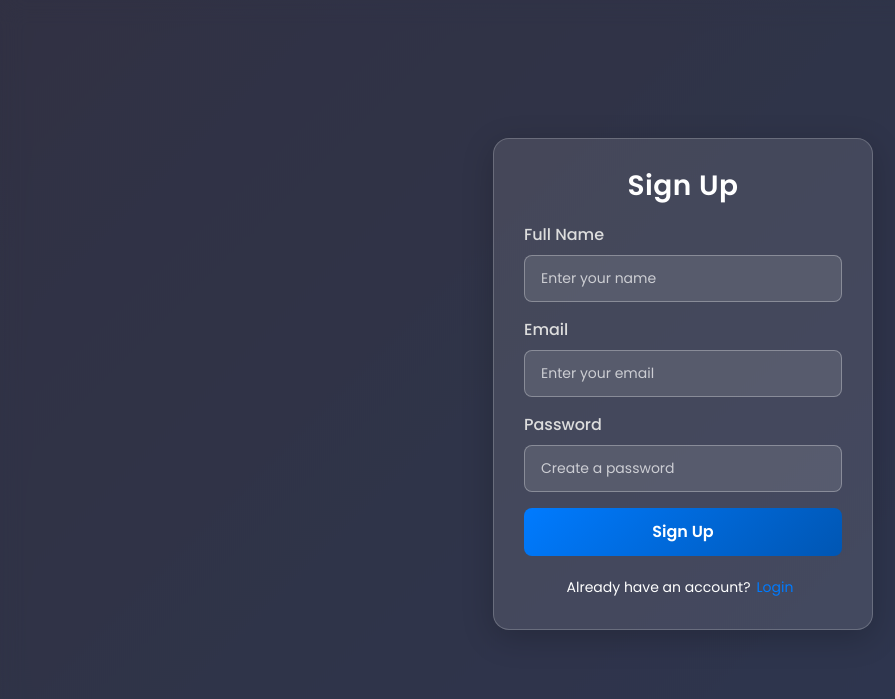
Scenario: Signup Component › shows error message for weak password
In the field with placeholder "Enter your name": [683, 278] box [524,255,842,302], type "John Doe"
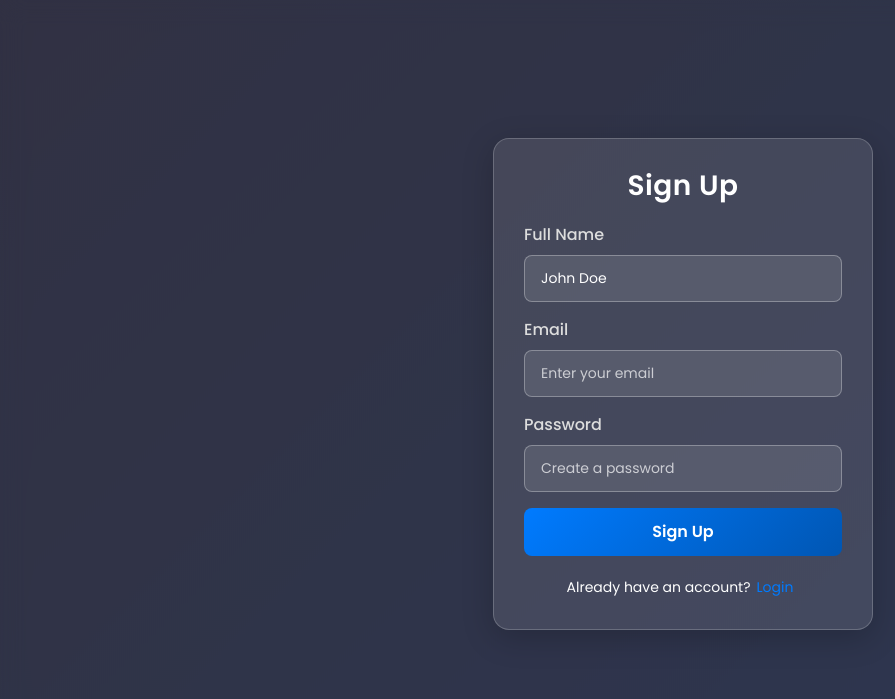
In the field with placeholder "Enter your email": [683, 373] box [524,350,842,397], type "test@example.com"
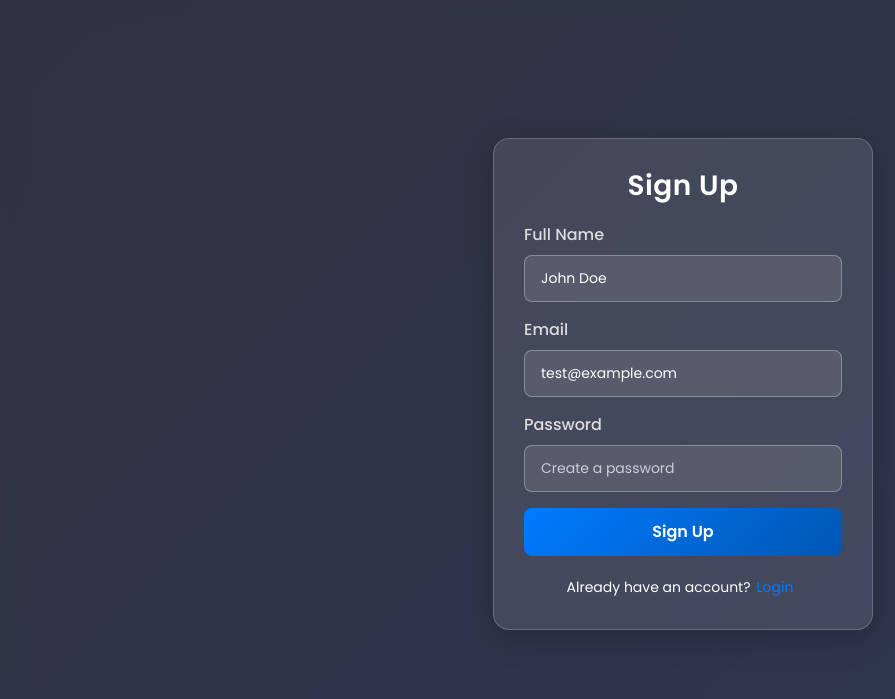
In the password field with placeholder "Create a password": [683, 468] box [524,445,842,492], type "123"
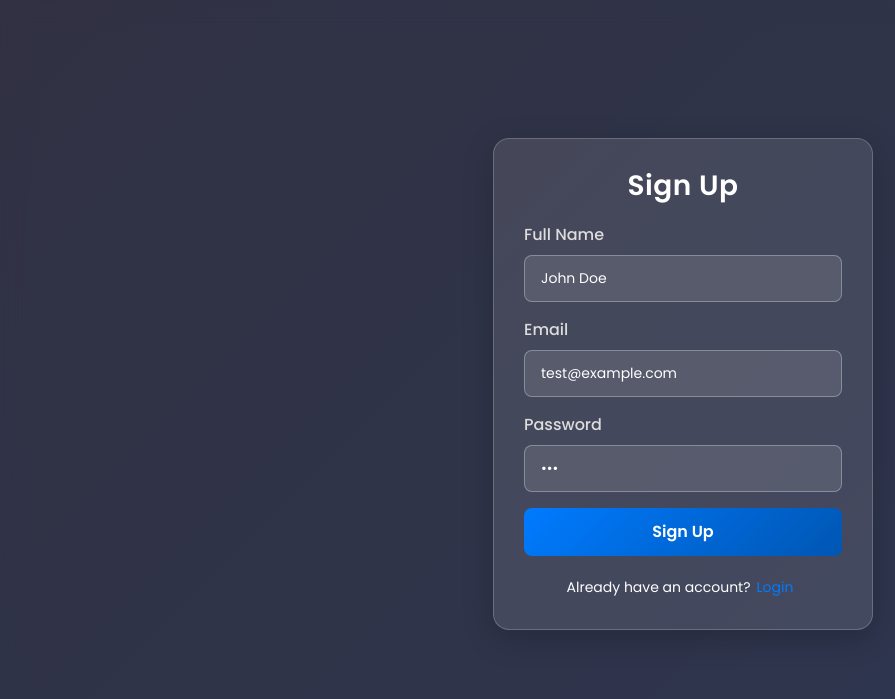
Click the button "Sign Up": [683, 532] box [524,508,842,556]
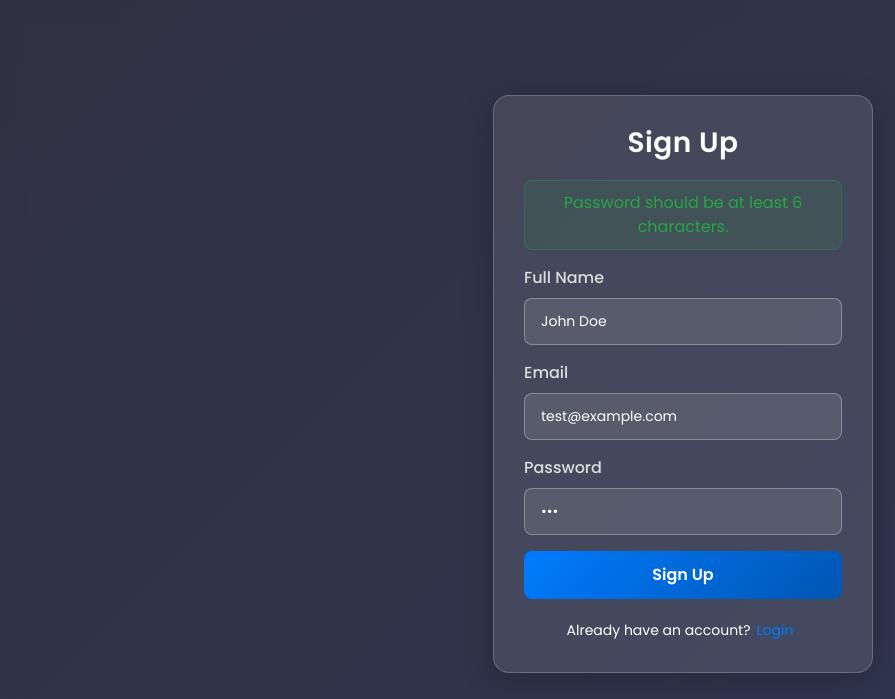
Result: the text "Password should be at least 6 characters." is shown at [524,180,842,250]
